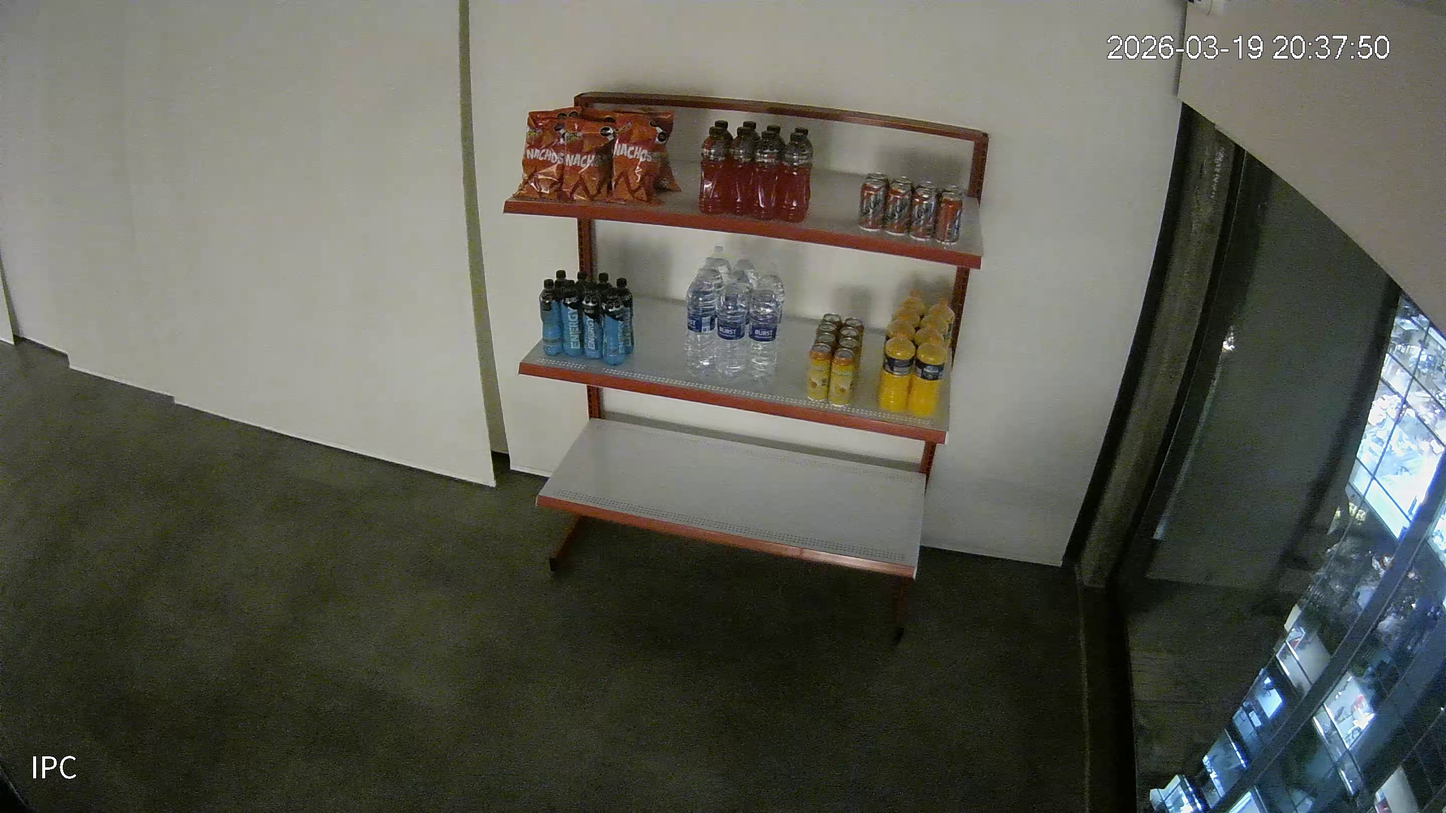agua_burst: (712, 276, 747, 378), (704, 252, 723, 293), (713, 245, 730, 274)
burst_energetica_roja: (751, 131, 781, 222), (713, 120, 734, 143), (767, 124, 785, 149)
burst_energy: (554, 270, 572, 296), (573, 271, 595, 289), (598, 274, 615, 296)
nachos_naturasol: (562, 118, 614, 205), (513, 121, 562, 198), (529, 105, 581, 121)
nebraska_mango: (845, 316, 865, 328), (838, 337, 859, 348), (824, 312, 841, 324)
sisi_cola: (882, 182, 911, 234), (859, 179, 883, 230), (910, 189, 934, 238)
sun_paradise_naranja: (879, 330, 914, 413), (934, 292, 954, 346), (914, 318, 945, 349)
